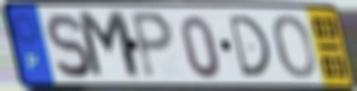0: (178, 11, 223, 81)
D: (226, 13, 274, 80)
M: (74, 9, 145, 83)
O: (271, 12, 318, 81)
P: (128, 9, 176, 84)
S: (43, 11, 93, 81)
